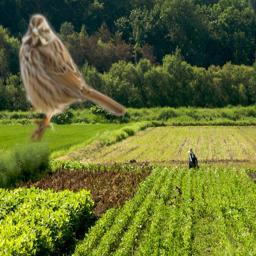Sparrow: (18, 13, 126, 143)
